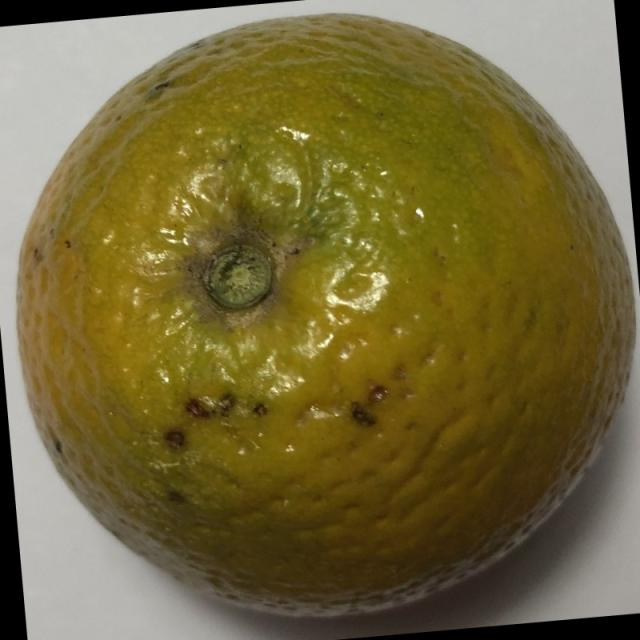black spot: (14, 8, 635, 627)
